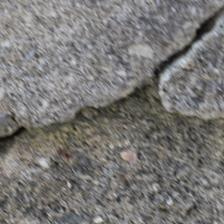Crack: (6, 84, 159, 150), (155, 8, 221, 78)
